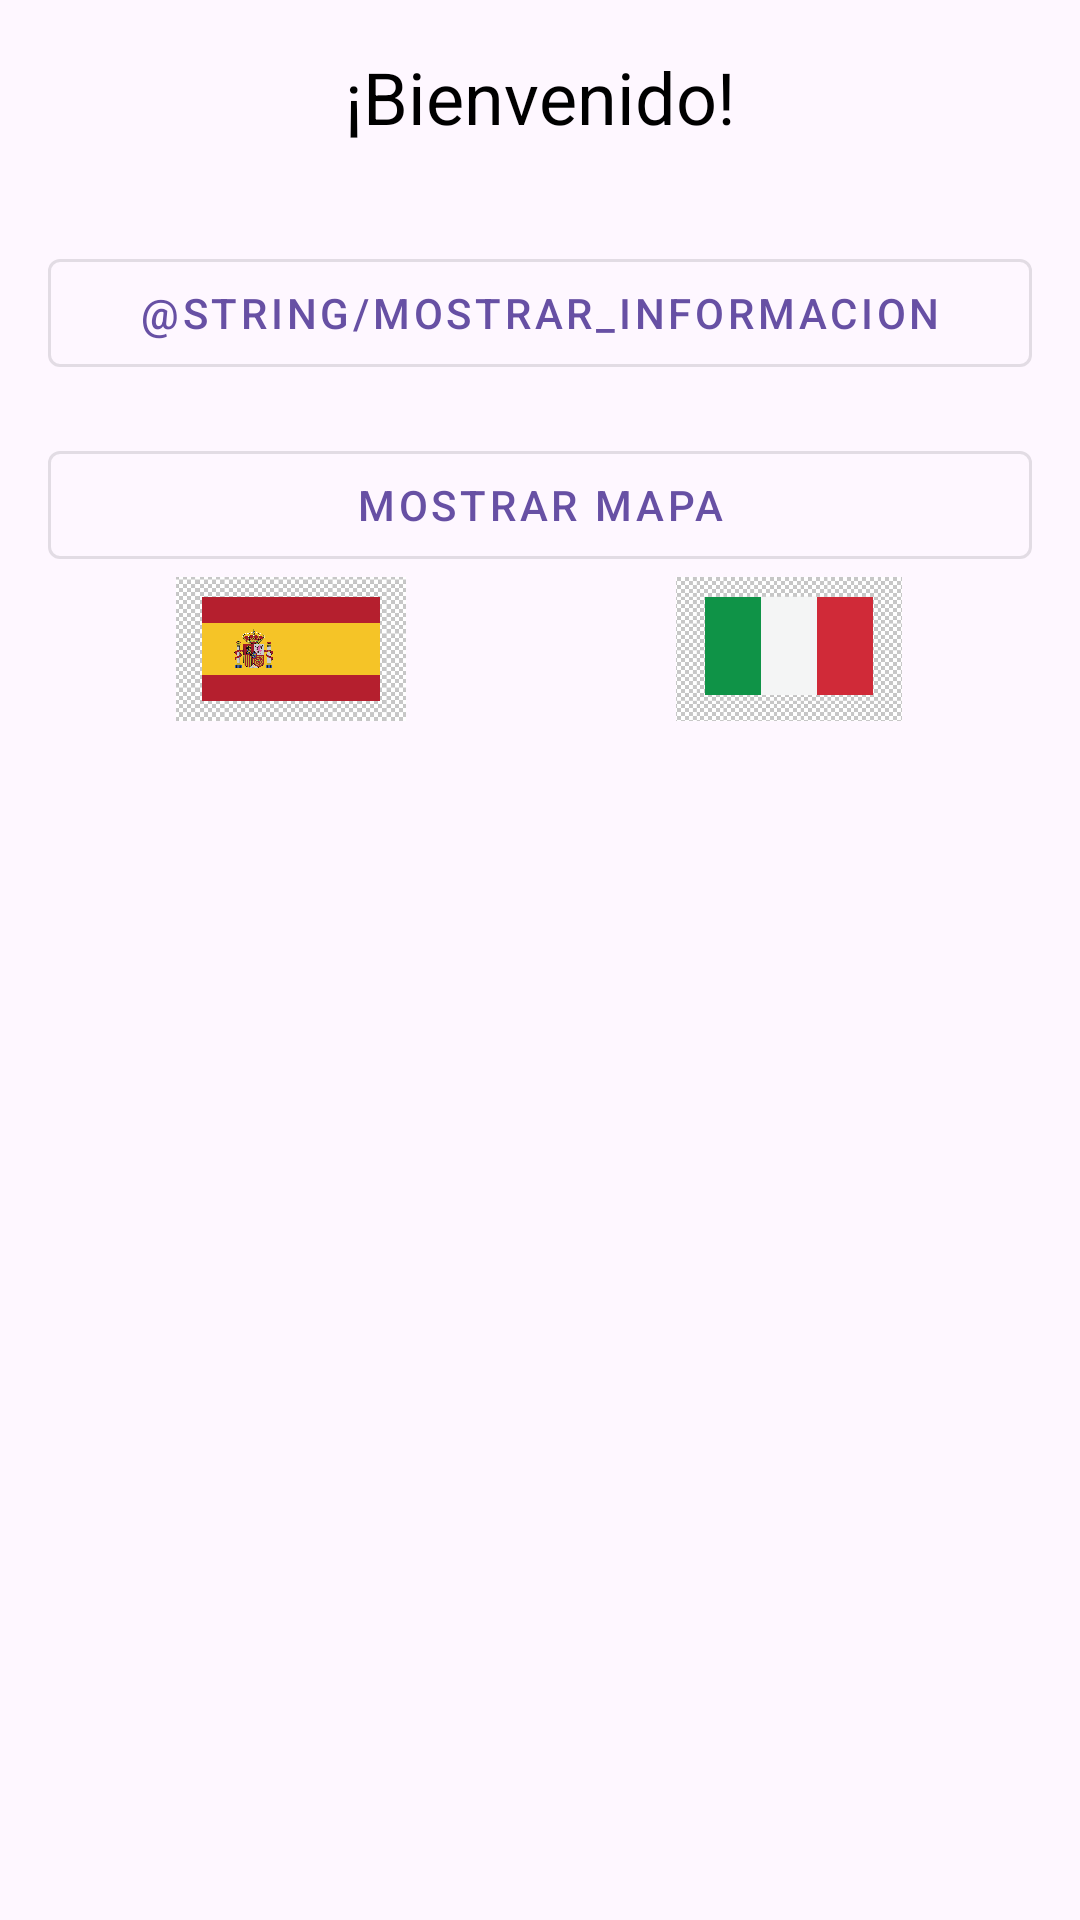

Where to tap for icons on this 1080×1920 app screen, as [x,y]:
italy: [789,649]
spain: [291,649]
